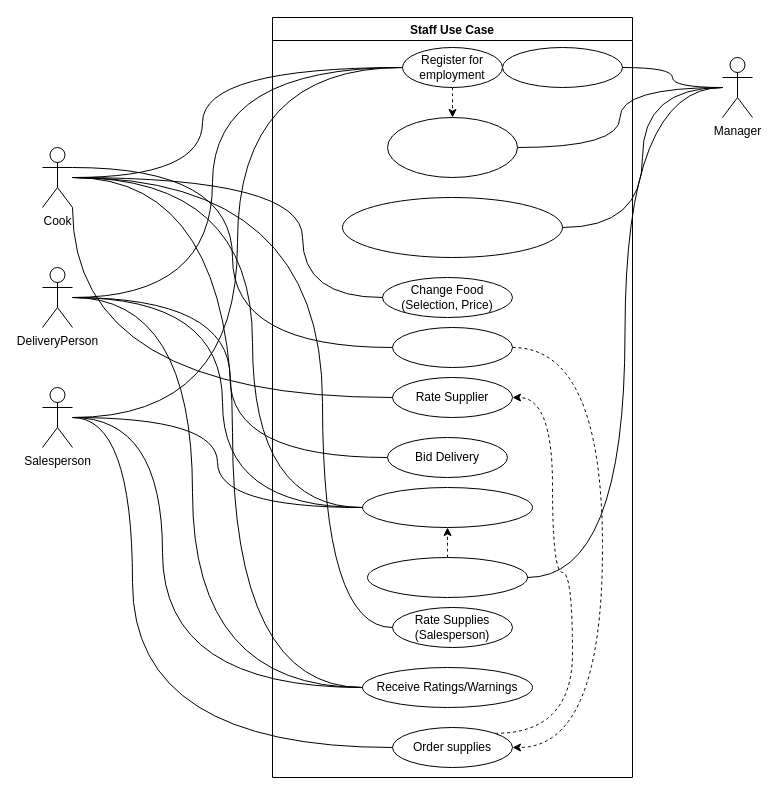
The diagram is 778 pixels wide and 795 high, and some of its shapes have lost their labels. Here are the shapes that lost their labels. From the top down, the centre of each, then its label:
At point 562,67: "Start/Choose Bid".
At point 452,147: "Approve registration/ Hire employee".
At point 452,227: "Modify Staff Status (Promote/Demote, Remove Warning)".
At point 452,347: "Ask Supplier to order supplies".
At point 447,507: "Receive Salary/Commissions".
At point 447,577: "Pay Salary/Commissions".
